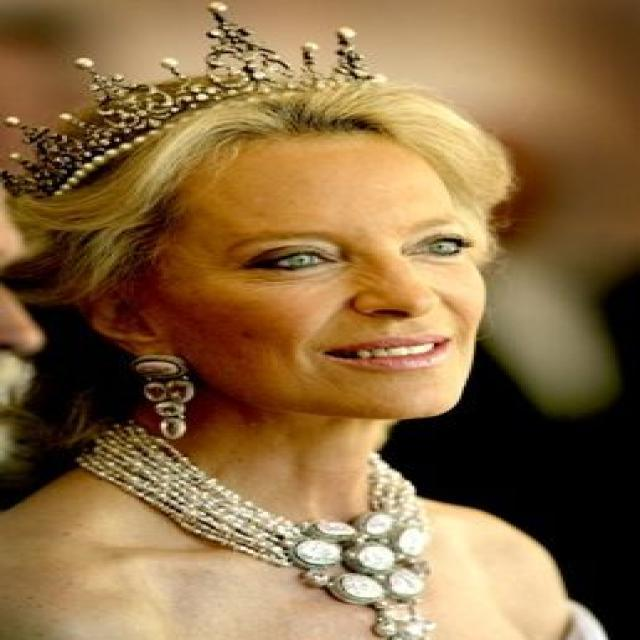Earring: (131, 338, 206, 458)
